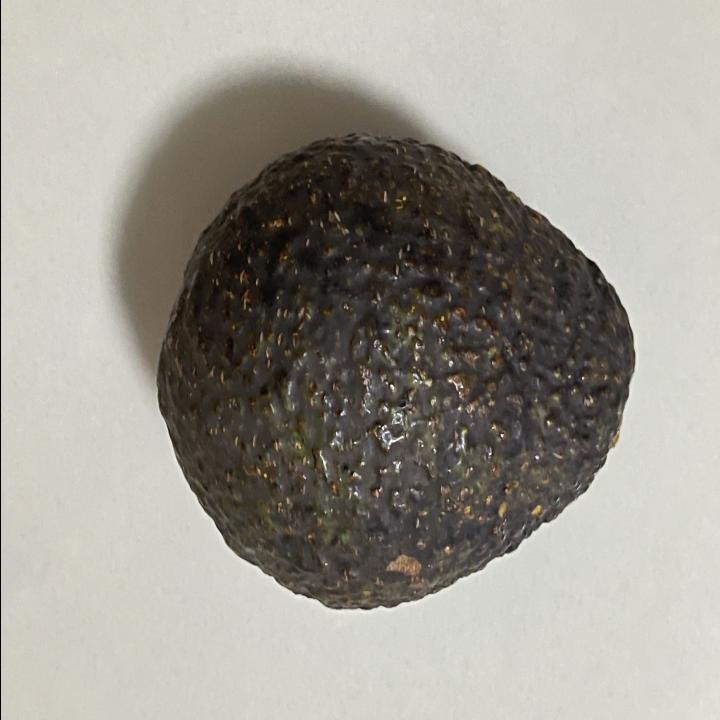Level2: (150, 129, 640, 622)
